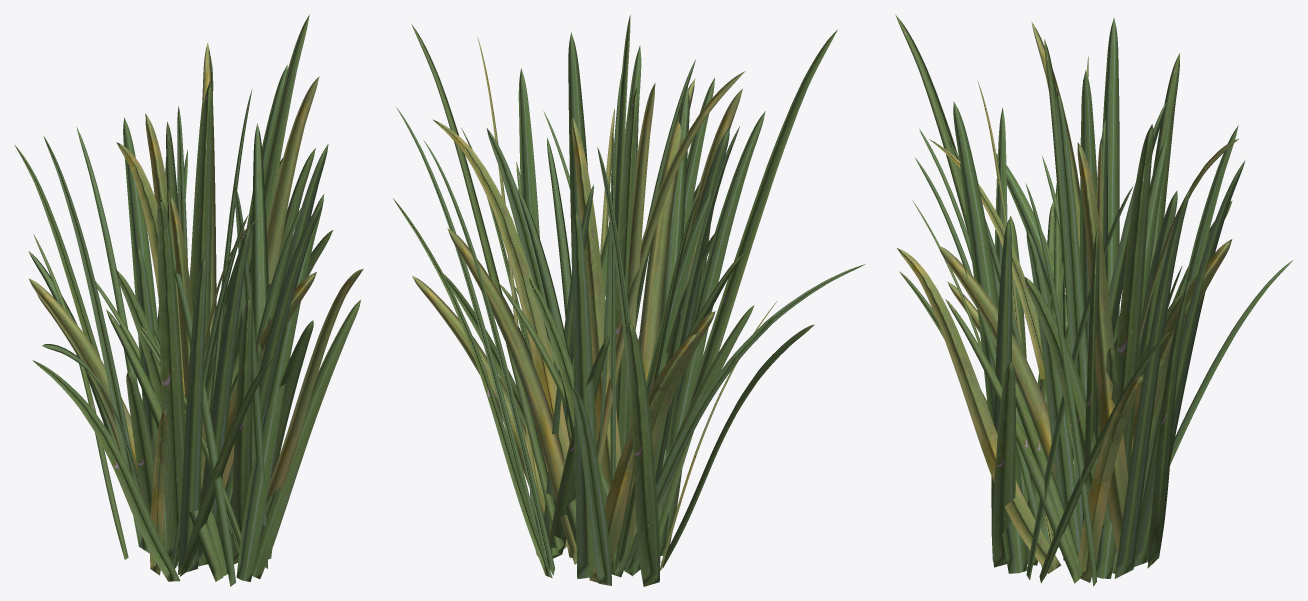
File: grass.FBX
3 views of the same model, side by side, from view 1: azimuth 30°, elevation 25°; view 2: azimuth 150°, elevation 25°; view 3: azimuth 270°, elevation 25° (orthographic). The views are drawn at different scales.
Parts seen in each view (by area): view 1: L631, L2c457, Lc111, L622, Lc104, L2c465, L617, L2c458, Lc106, L626, Lc108, L634 (+31 smaller); view 2: L635, Lc110, L2c477, L631, L2c457, L3c065, L2c478, L619, Lc111, L2c459, L632, L3c063 (+33 smaller); view 3: Lc112, L632, L626, L634, L618, Lc103, Lc113, Lc105, L2c480, L2c465, L3c066, L3c062 (+32 smaller).
Boxes of the visible parts, <box> form: L631: <box>157,198,186,559</box>; L2c457: <box>32,142,180,581</box>; Lc111: <box>178,257,206,574</box>; L622: <box>236,194,324,581</box>; Lc104: <box>198,225,250,566</box>; L2c465: <box>252,300,360,578</box>; L617: <box>190,81,212,444</box>; L2c458: <box>232,296,252,564</box>; Lc106: <box>43,136,149,553</box>; L626: <box>266,269,363,505</box>; Lc108: <box>229,199,323,552</box>; L634: <box>266,76,319,283</box>; L635: <box>570,87,638,585</box>; Lc110: <box>572,210,597,578</box>; L2c477: <box>627,322,660,586</box>; L631: <box>658,29,837,540</box>; L2c457: <box>576,71,814,568</box>; L3c065: <box>447,228,576,564</box>; L2c478: <box>432,119,572,557</box>; L619: <box>571,116,621,487</box>; Lc111: <box>666,111,765,536</box>; L2c459: <box>630,78,695,538</box>; L632: <box>411,24,563,551</box>; L3c063: <box>589,332,697,584</box>; Lc112: <box>1114,188,1190,578</box>; L632: <box>1111,124,1153,476</box>; L626: <box>897,248,1061,573</box>; L634: <box>1077,142,1137,561</box>; L618: <box>953,101,1027,573</box>; Lc103: <box>1056,88,1087,531</box>; Lc113: <box>1134,160,1245,566</box>; Lc105: <box>1026,229,1081,560</box>; L2c480: <box>1147,279,1190,568</box>; L2c465: <box>992,362,1015,567</box>; L3c066: <box>1078,375,1143,582</box>; L3c062: <box>937,245,1055,481</box>.
Size of the model in its own units: 118 by 162 by 111.
